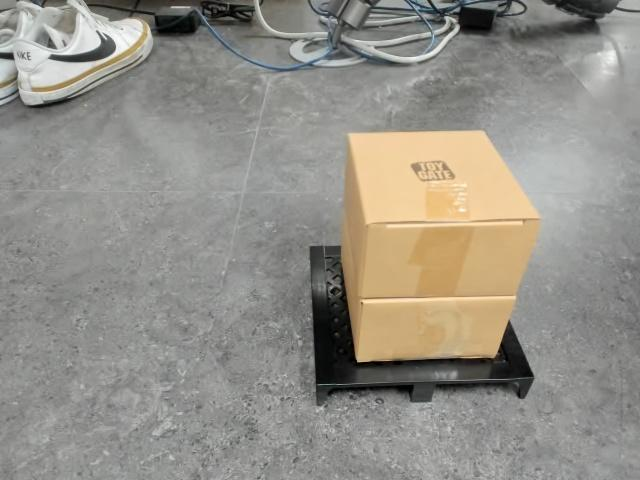box: (309, 130, 543, 409)
